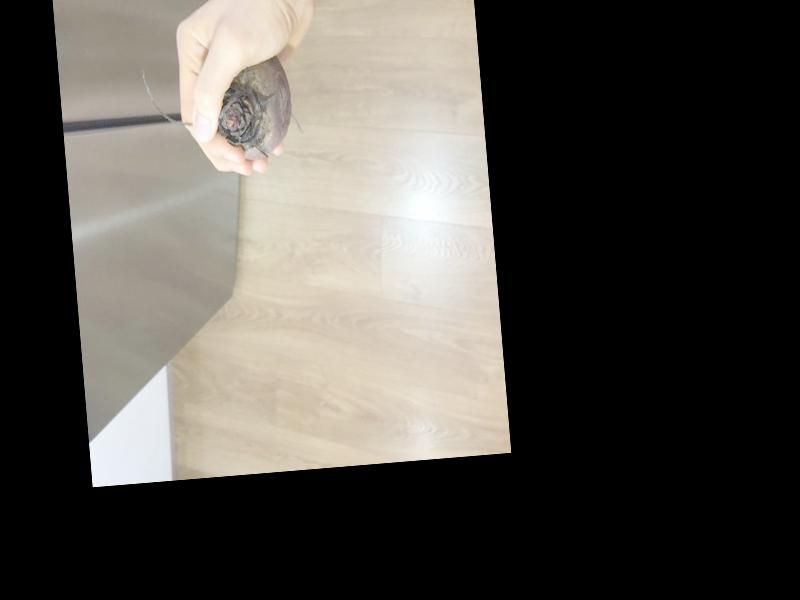Beet: (140, 54, 295, 169)
